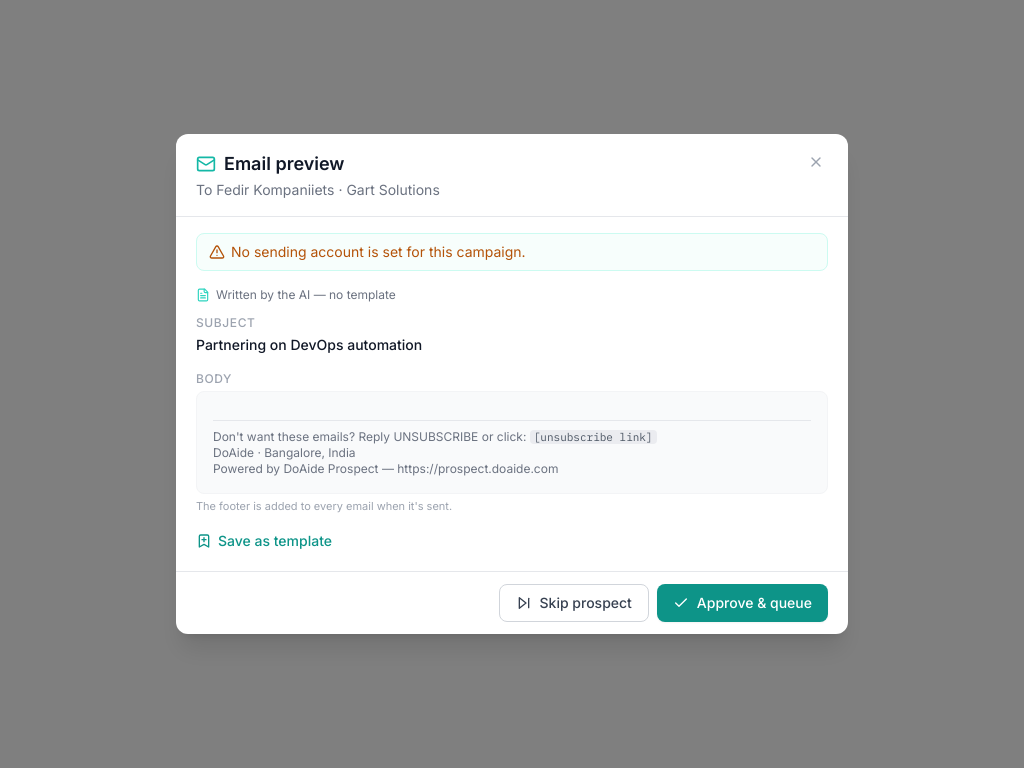
Scenario: EmailPreviewModal › links to the saved template in Outreach → Templates
Click the button "Save as template" at (264, 541), box left=196, top=531, right=332, bottom=551
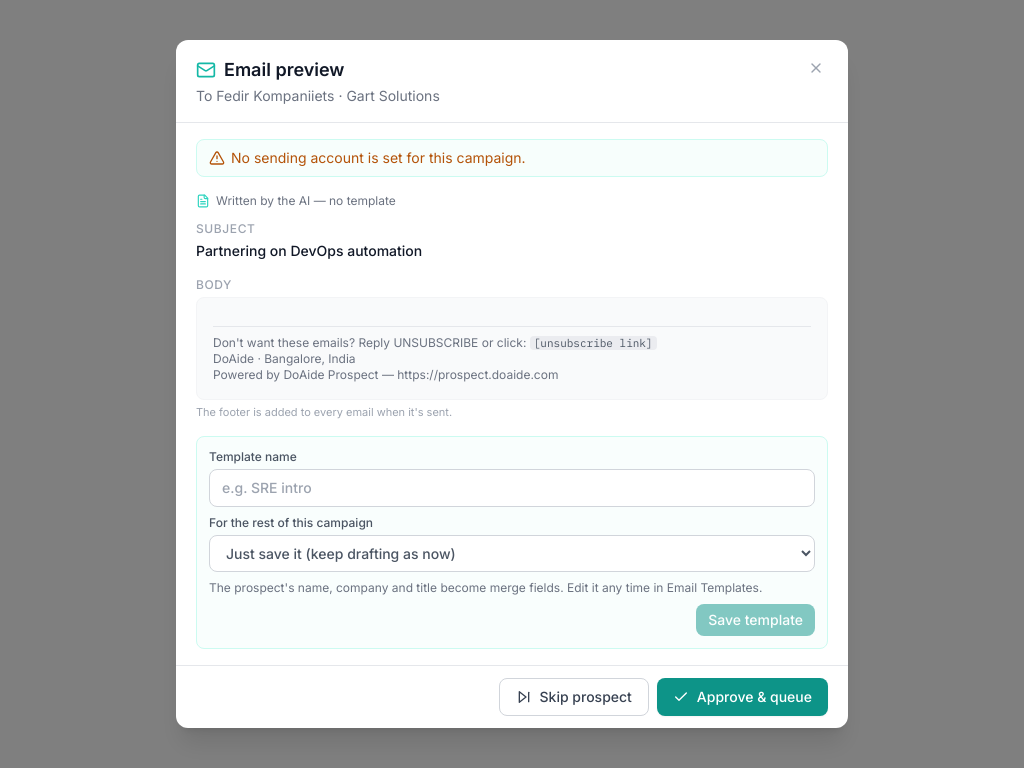
Type "Mine" into the field labelled "Template name" at (512, 488), box left=209, top=469, right=815, bottom=507
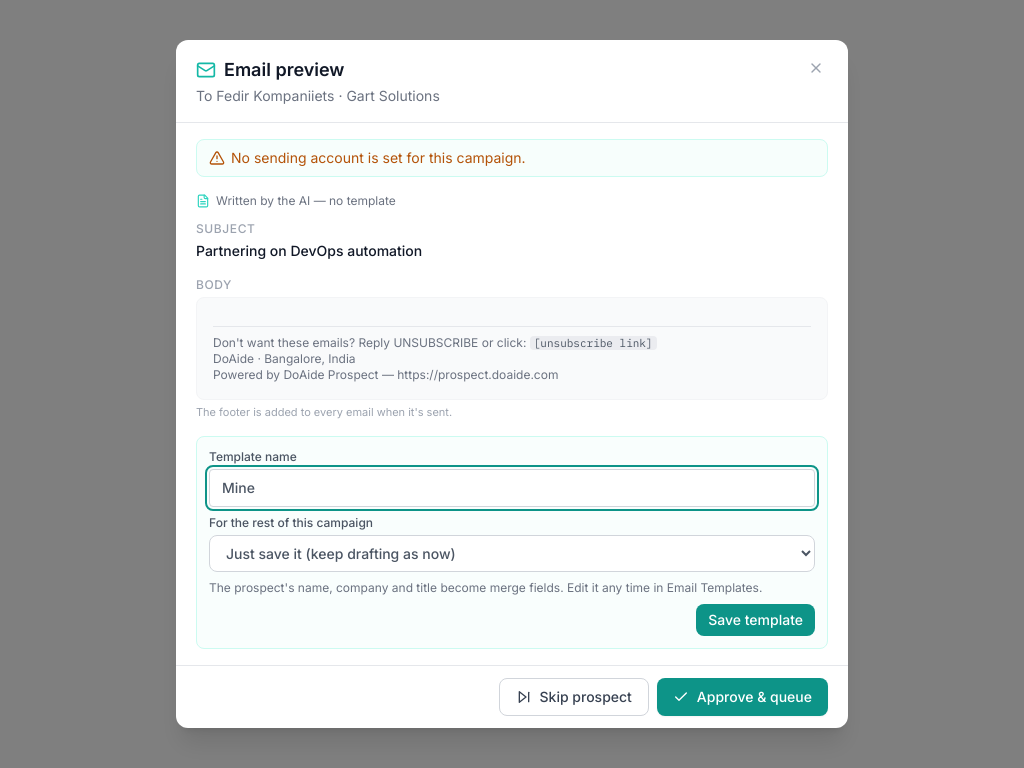
Click the button "Save template" at (756, 620), box left=696, top=604, right=815, bottom=636
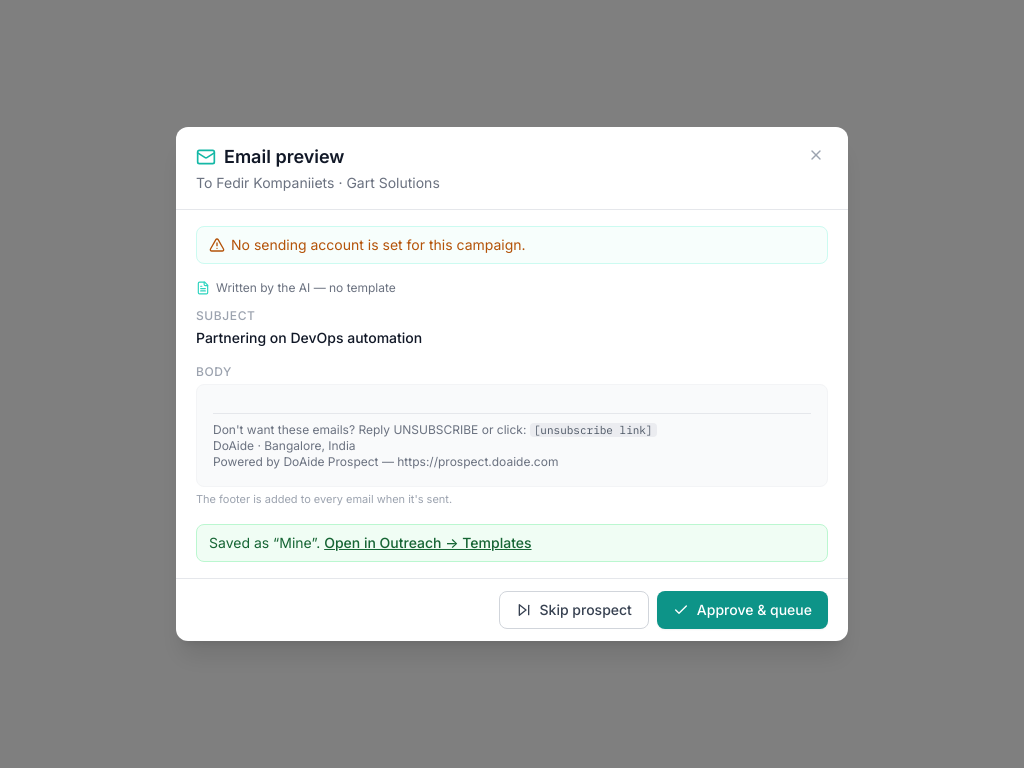
Check: the element with test id "template-saved" shows "Saved as “Mine”", box left=196, top=524, right=828, bottom=562
